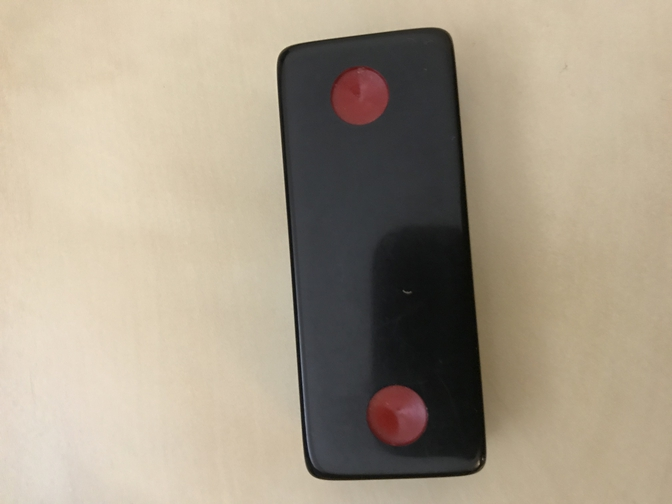earth: (274, 28, 488, 480)
